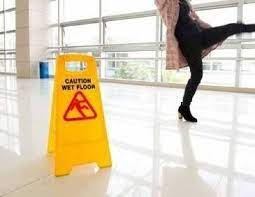wet caution sign: (42, 52, 117, 177)
